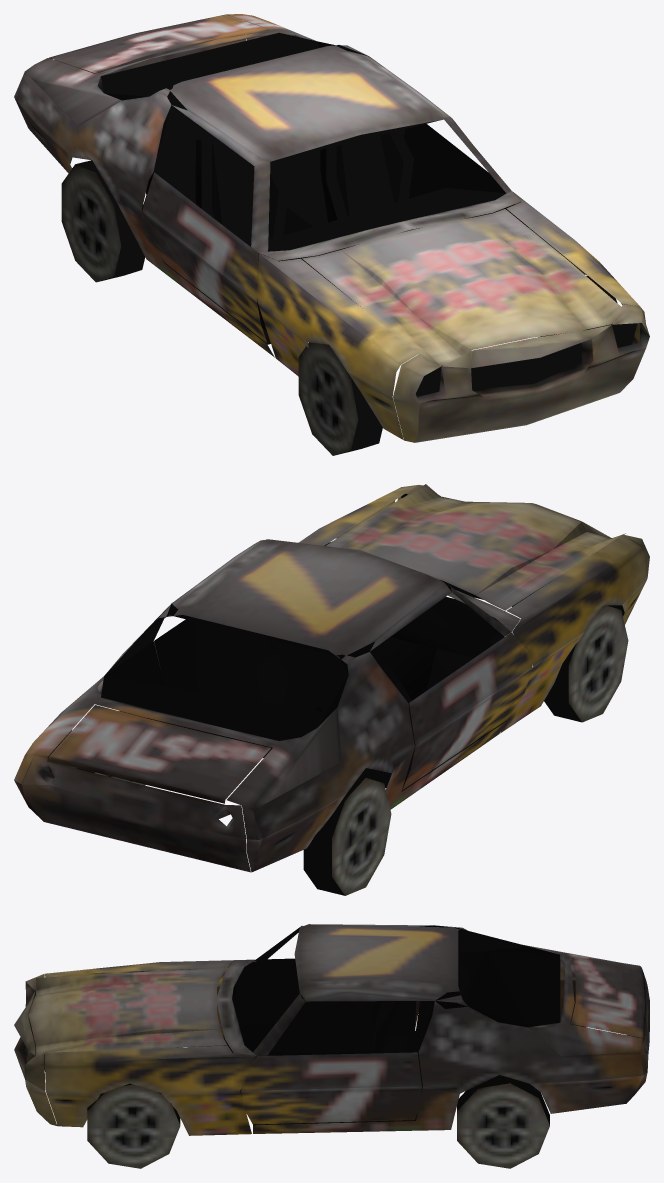
Rendered from mem_icon.ico.obj.
3 renders of one model, top to bottom at view 1: azimuth 30°, elevation 25°; view 2: azimuth 150°, elevation 25°; view 3: azimuth 270°, elevation 25°, orthographic. The views are drawn at different scales.
Bounding box in the file's own units: 1.76 × 1.31 × 4.5.
Materials: 1 (1 with a texture image).
